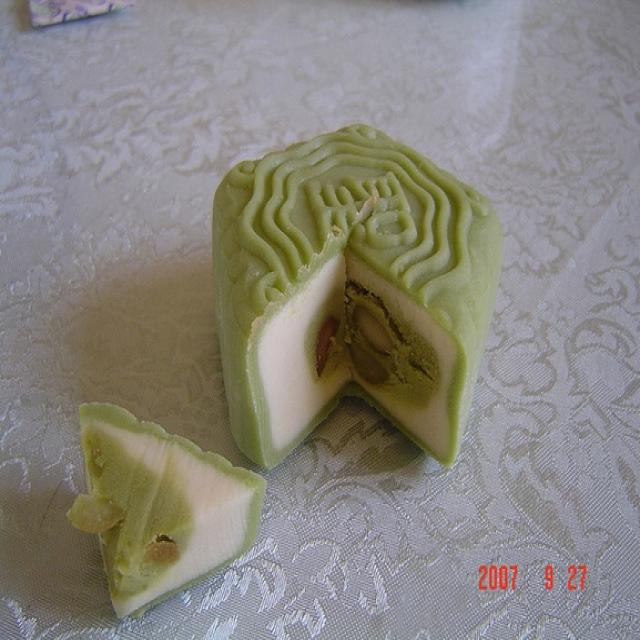蛋糕甜品: (41, 64, 501, 631)
